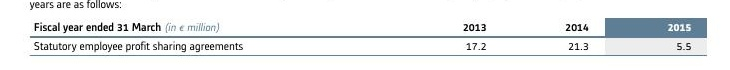table: (0, 0, 730, 70)
